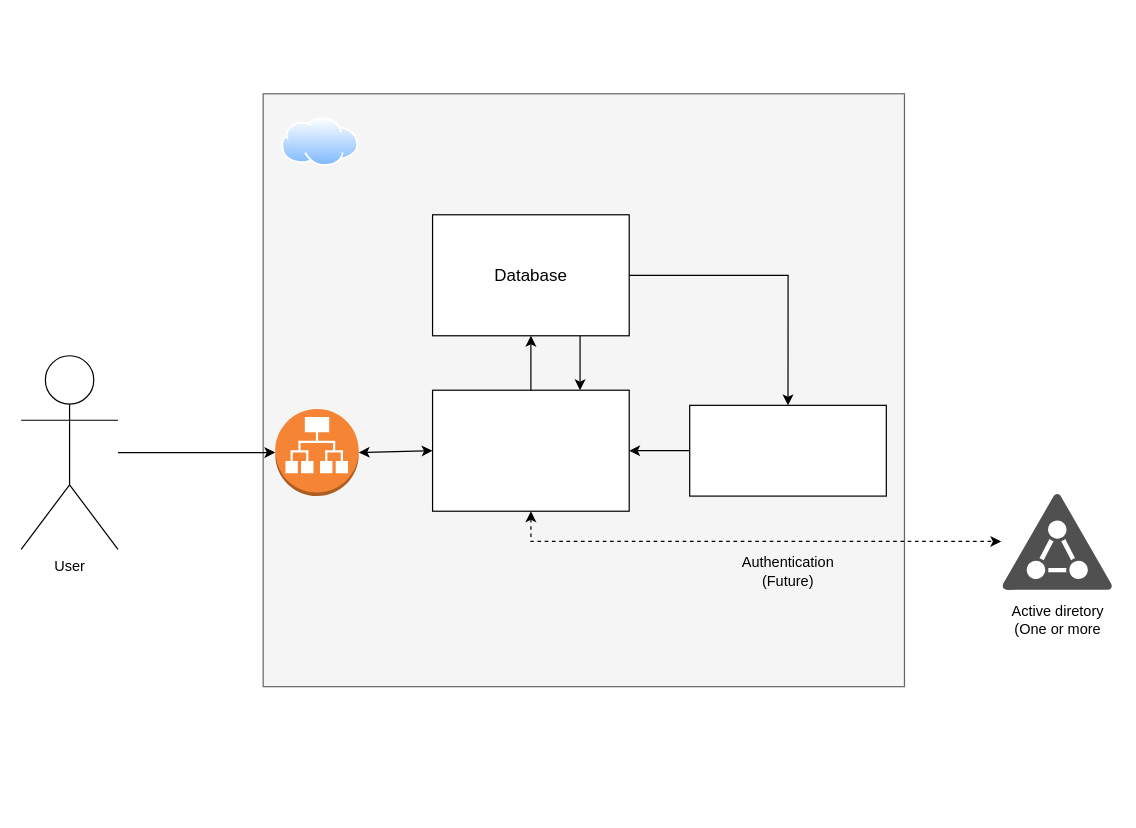
The diagram is 1136 pixels wide and 828 high, and some of its shapes have lost their labels. The shapes that lost their labels are listed below. From the top down, each one's box as (x1, y1, x2, y2) in pixels, then its label:
(431, 389, 629, 511): TPM Web Application container
(688, 404, 886, 496): ElasticSearch
